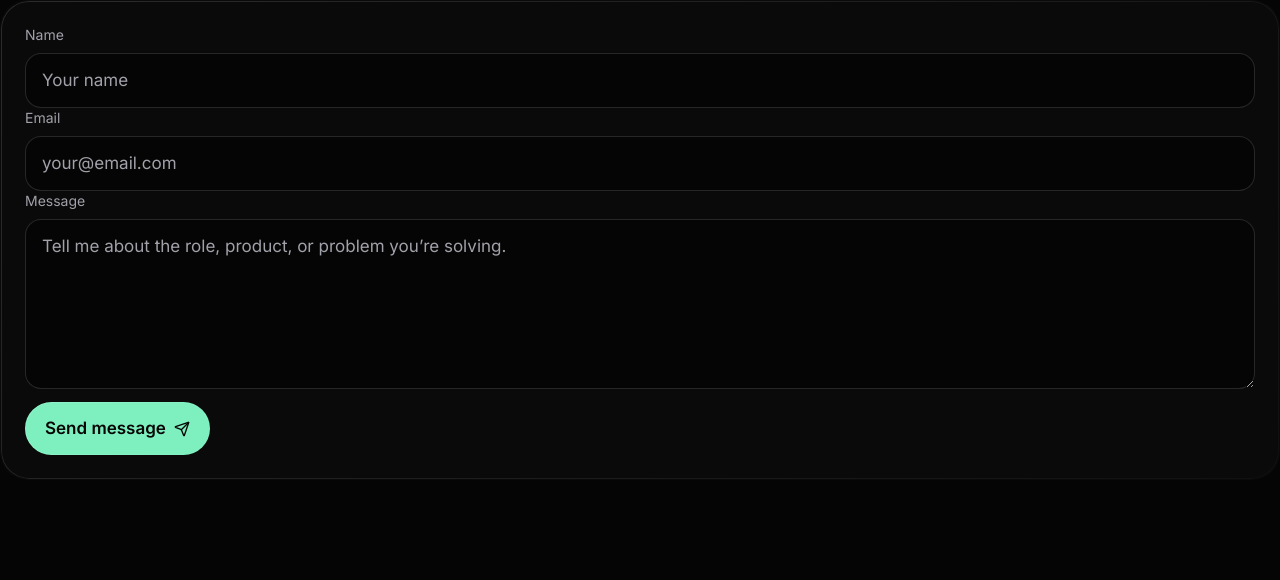
Test case: Contact › associates validation errors with fields and exposes their limits
The image size is (1280, 580).
Click the button "Send message".
click(117, 429)  # box [25,402,210,455]
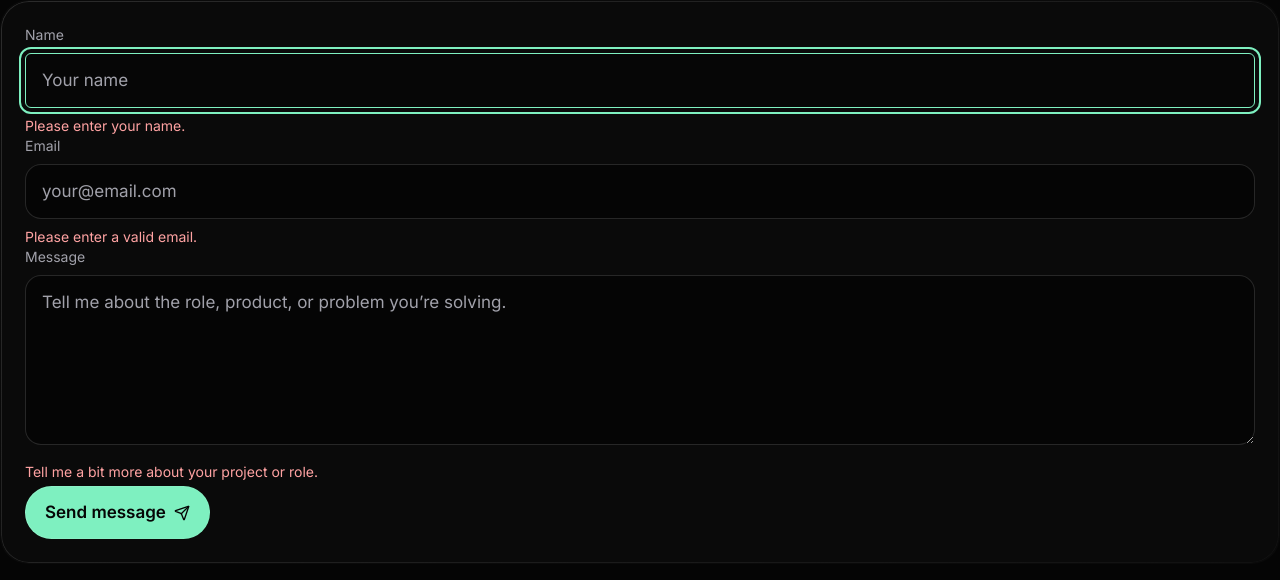
Result: the field labelled "Email" is marked as invalid at [25,164,1255,219]
Result: the field labelled "Email" has attribute aria-describedby="email-error" at [25,164,1255,219]
Result: the text box labelled "Message" is marked as invalid at [25,275,1255,445]
